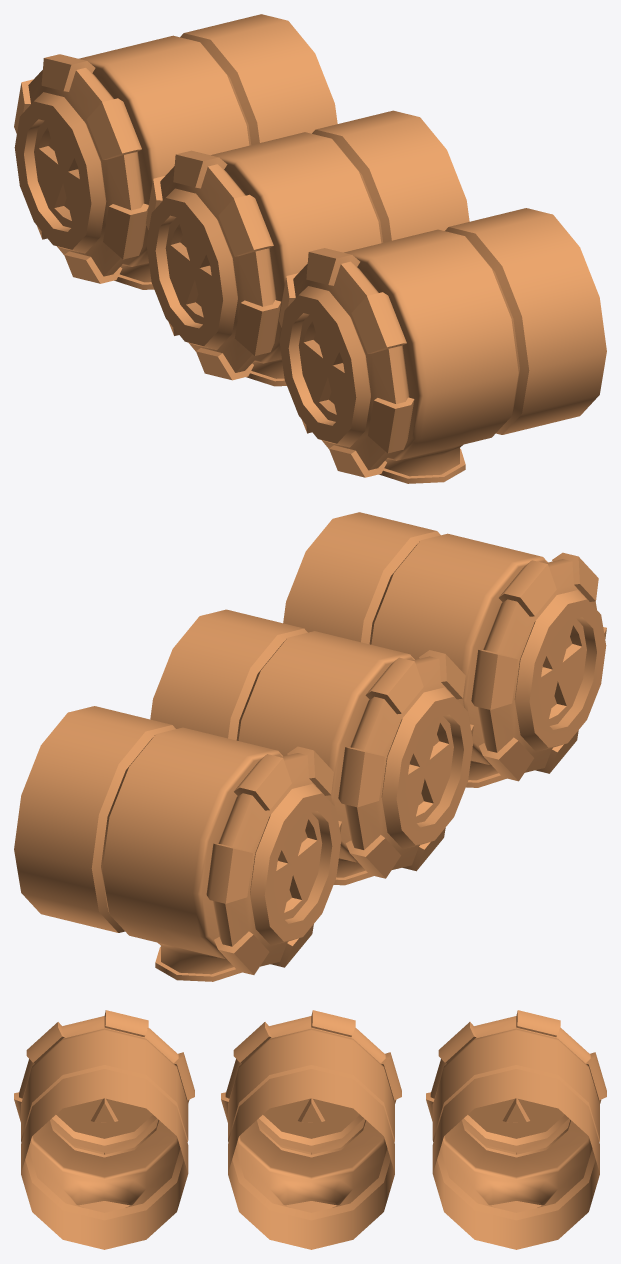
File: floorValves_01.fbx
3 renders of one model, top to bottom at view 1: azimuth 30°, elevation 25°; view 2: azimuth 150°, elevation 25°; view 3: azimuth 270°, elevation 25°, orthographic. The views are drawn at different scales.
Visible parts, largest first — view 1: floorValves_01; view 2: floorValves_01; view 3: floorValves_01.
Part boxes in pixels (x1=…): floorValves_01: x1=14, y1=14, x2=606, y2=483; floorValves_01: x1=14, y1=512, x2=606, y2=981; floorValves_01: x1=14, y1=1010, x2=606, y2=1249.
Size of the model in its own units: 2.53 by 2.31 by 7.09.
